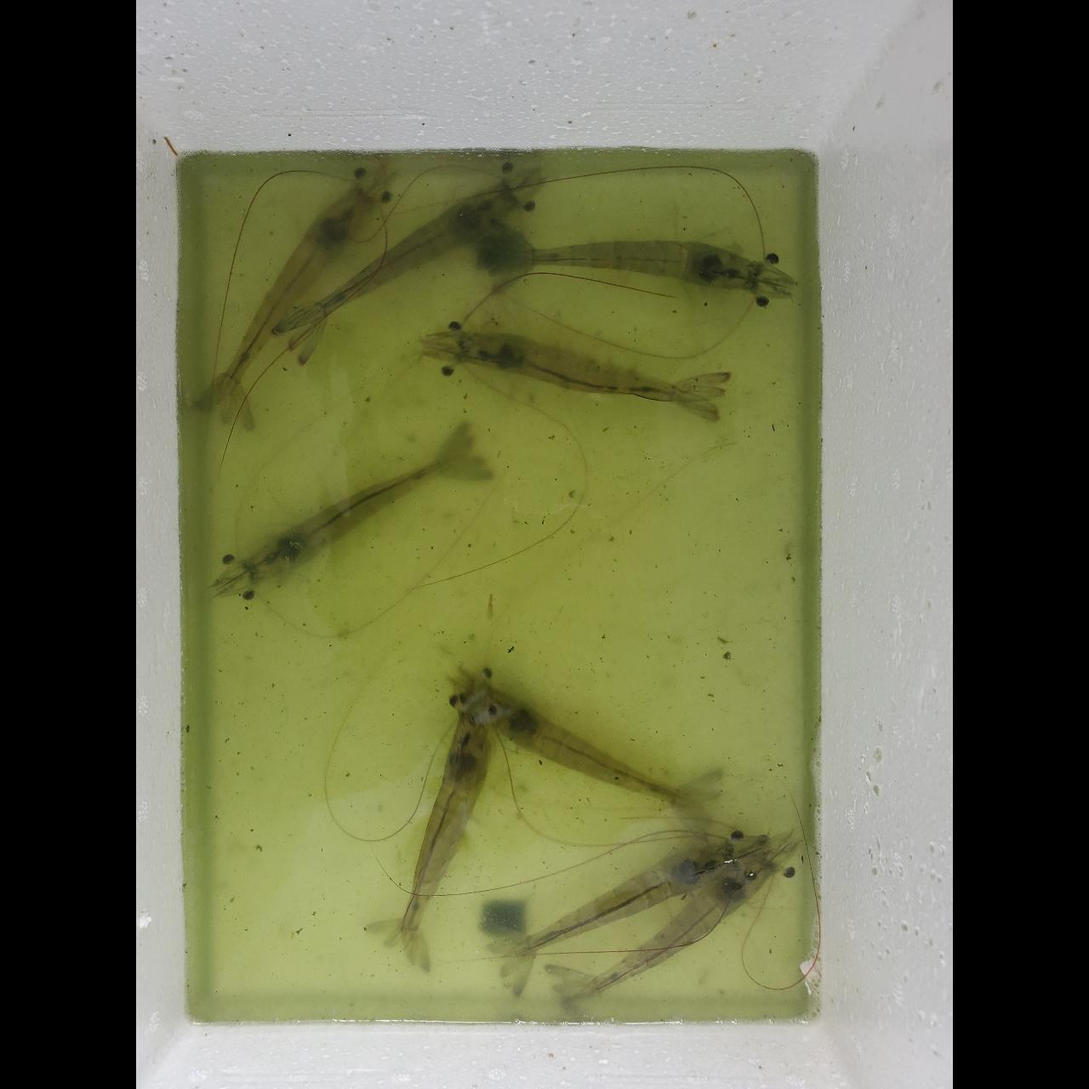box: (479, 231, 526, 277), (482, 899, 527, 939)
top_shrimp: (219, 184, 378, 405), (290, 180, 522, 329), (571, 852, 773, 1000), (472, 684, 709, 808), (246, 452, 473, 580), (505, 840, 736, 956), (402, 714, 493, 952), (461, 332, 713, 403), (496, 241, 758, 289)
